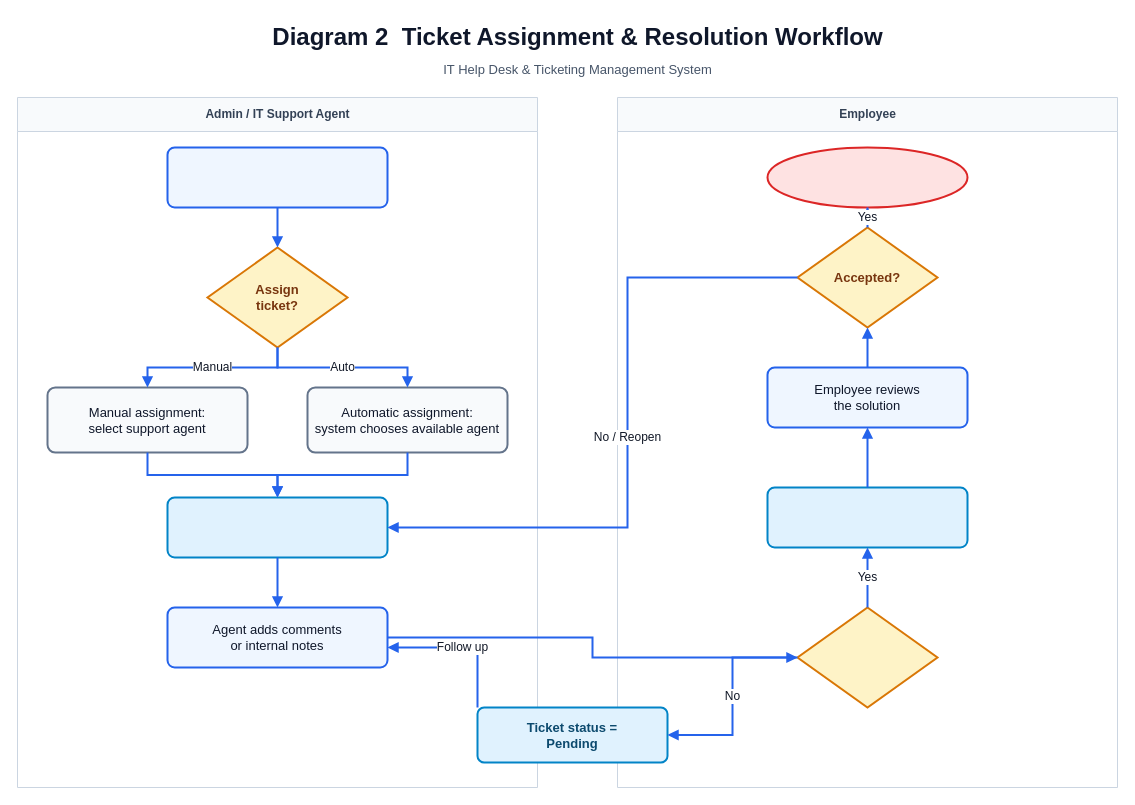
The diagram is 1135 pixels wide and 805 high, and some of its shapes have lost their labels. Here are the shapes that lost their labels. From the top down, the centre of each, then its label:
(277,177): Admin / IT Agent views open tickets
(867,177): Ticket status = Closed
(277,527): Ticket status = In Progress
(867,517): Ticket status = Resolved
(867,657): Issue solved?
